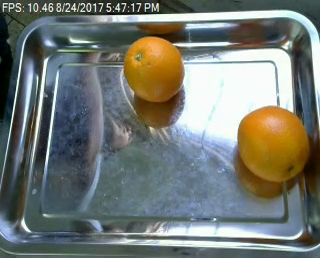Orange: (238, 106, 310, 182), (123, 37, 185, 103)
